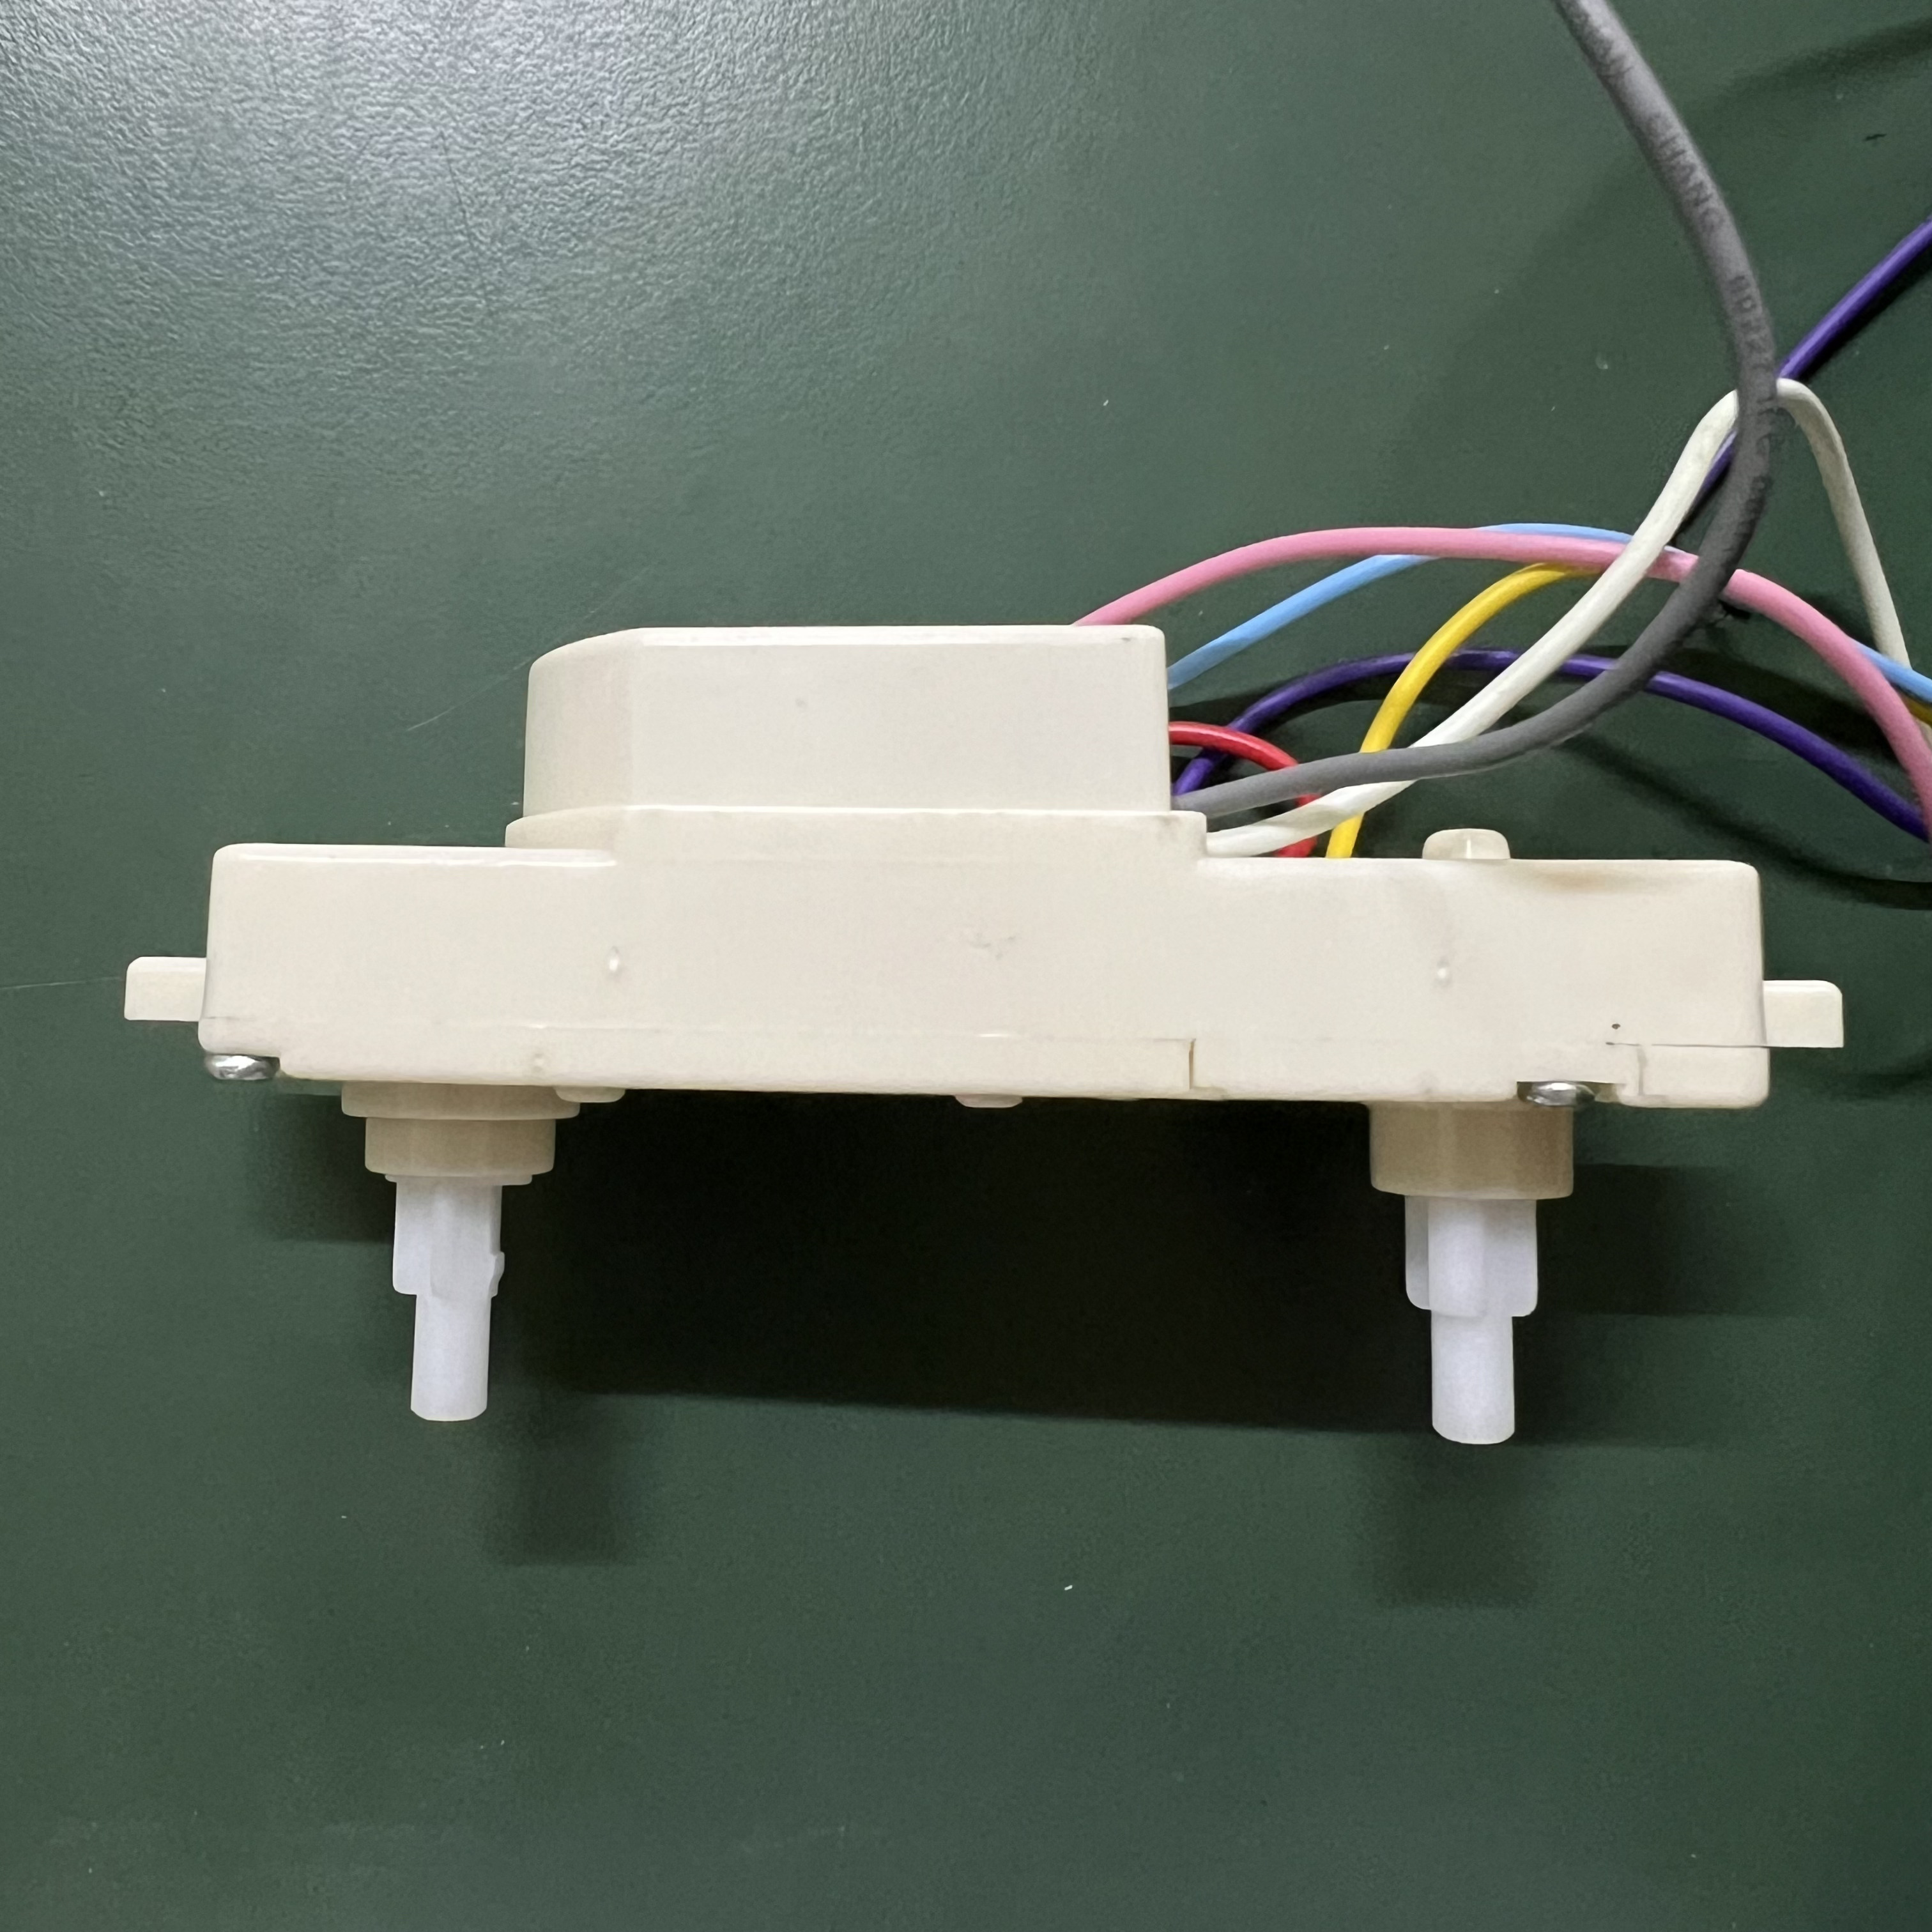rectangle_timer: (126, 609, 1870, 1470)
